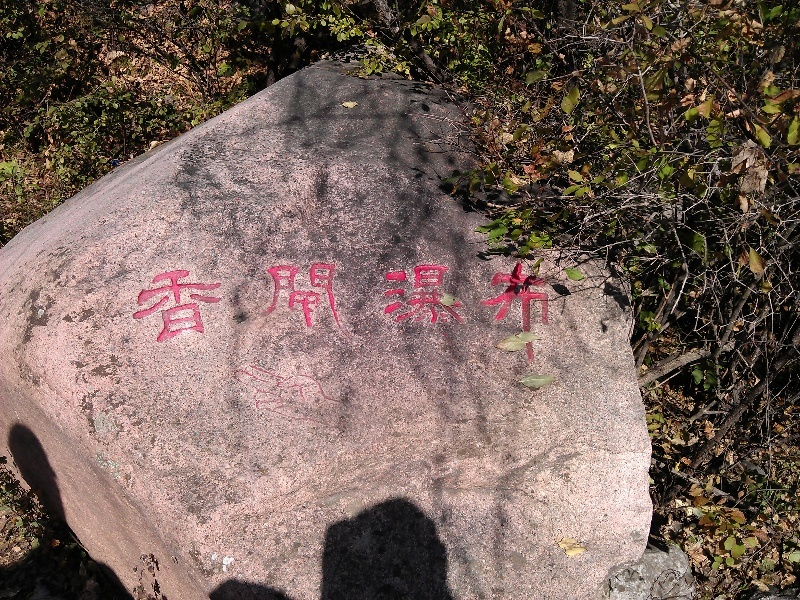text: (145, 260, 160, 343), (161, 260, 176, 343), (177, 260, 192, 343), (193, 260, 208, 343), (209, 260, 224, 343), (225, 260, 240, 343), (241, 260, 256, 343), (257, 260, 272, 343), (273, 260, 288, 343), (289, 260, 304, 343), (305, 260, 320, 343), (321, 260, 336, 343), (337, 260, 352, 343), (353, 260, 368, 343), (369, 260, 384, 343), (385, 260, 400, 343), (401, 260, 416, 343), (417, 260, 432, 343), (433, 260, 448, 343), (449, 260, 464, 343), (465, 260, 480, 343), (481, 260, 496, 343), (497, 260, 512, 343), (513, 260, 528, 343), (529, 260, 544, 343), (130, 260, 144, 343), (545, 260, 554, 343)
